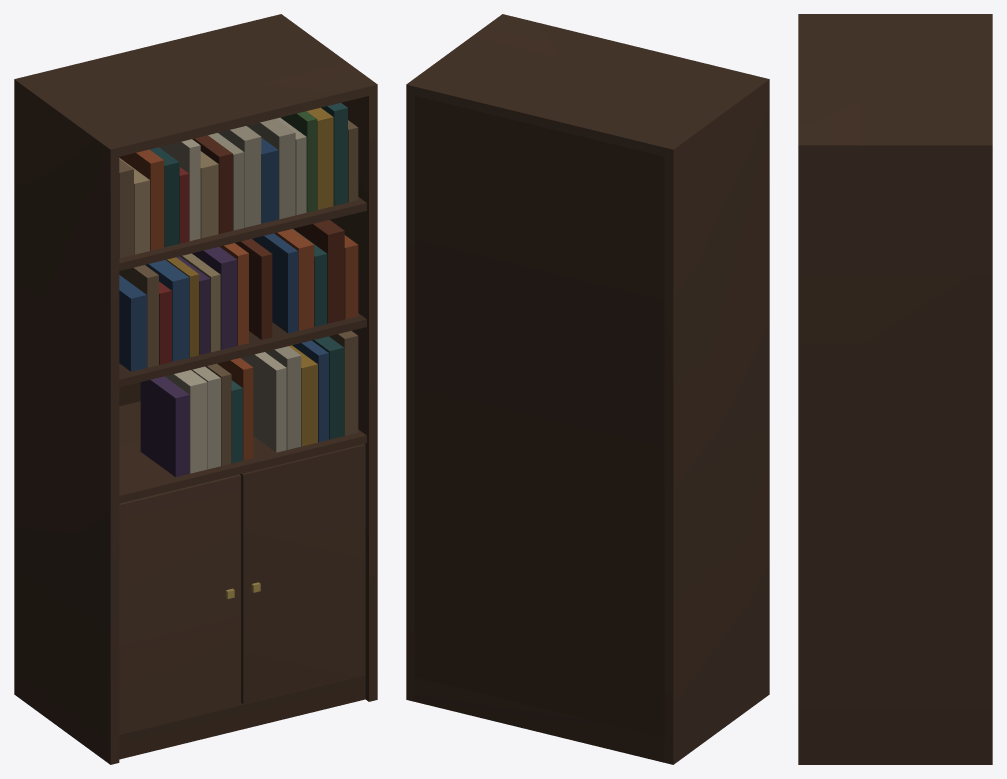
Rendered from bookcase.tall.cupboard.glb.
3 views of the same model, side by side, from view 1: azimuth 30°, elevation 25°; view 2: azimuth 150°, elevation 25°; view 3: azimuth 270°, elevation 25° (orthographic).
Parts seen in each view (by area): view 1: bookcase_tall_cupboard; view 2: bookcase_tall_cupboard; view 3: bookcase_tall_cupboard.
Boxes of the visible parts, x1=… form: bookcase_tall_cupboard: x1=14, y1=14, x2=377, y2=764; bookcase_tall_cupboard: x1=406, y1=14, x2=769, y2=764; bookcase_tall_cupboard: x1=798, y1=14, x2=992, y2=764.
Size of what is drawn, in the model's own units: 0.909 by 2 by 0.568.
